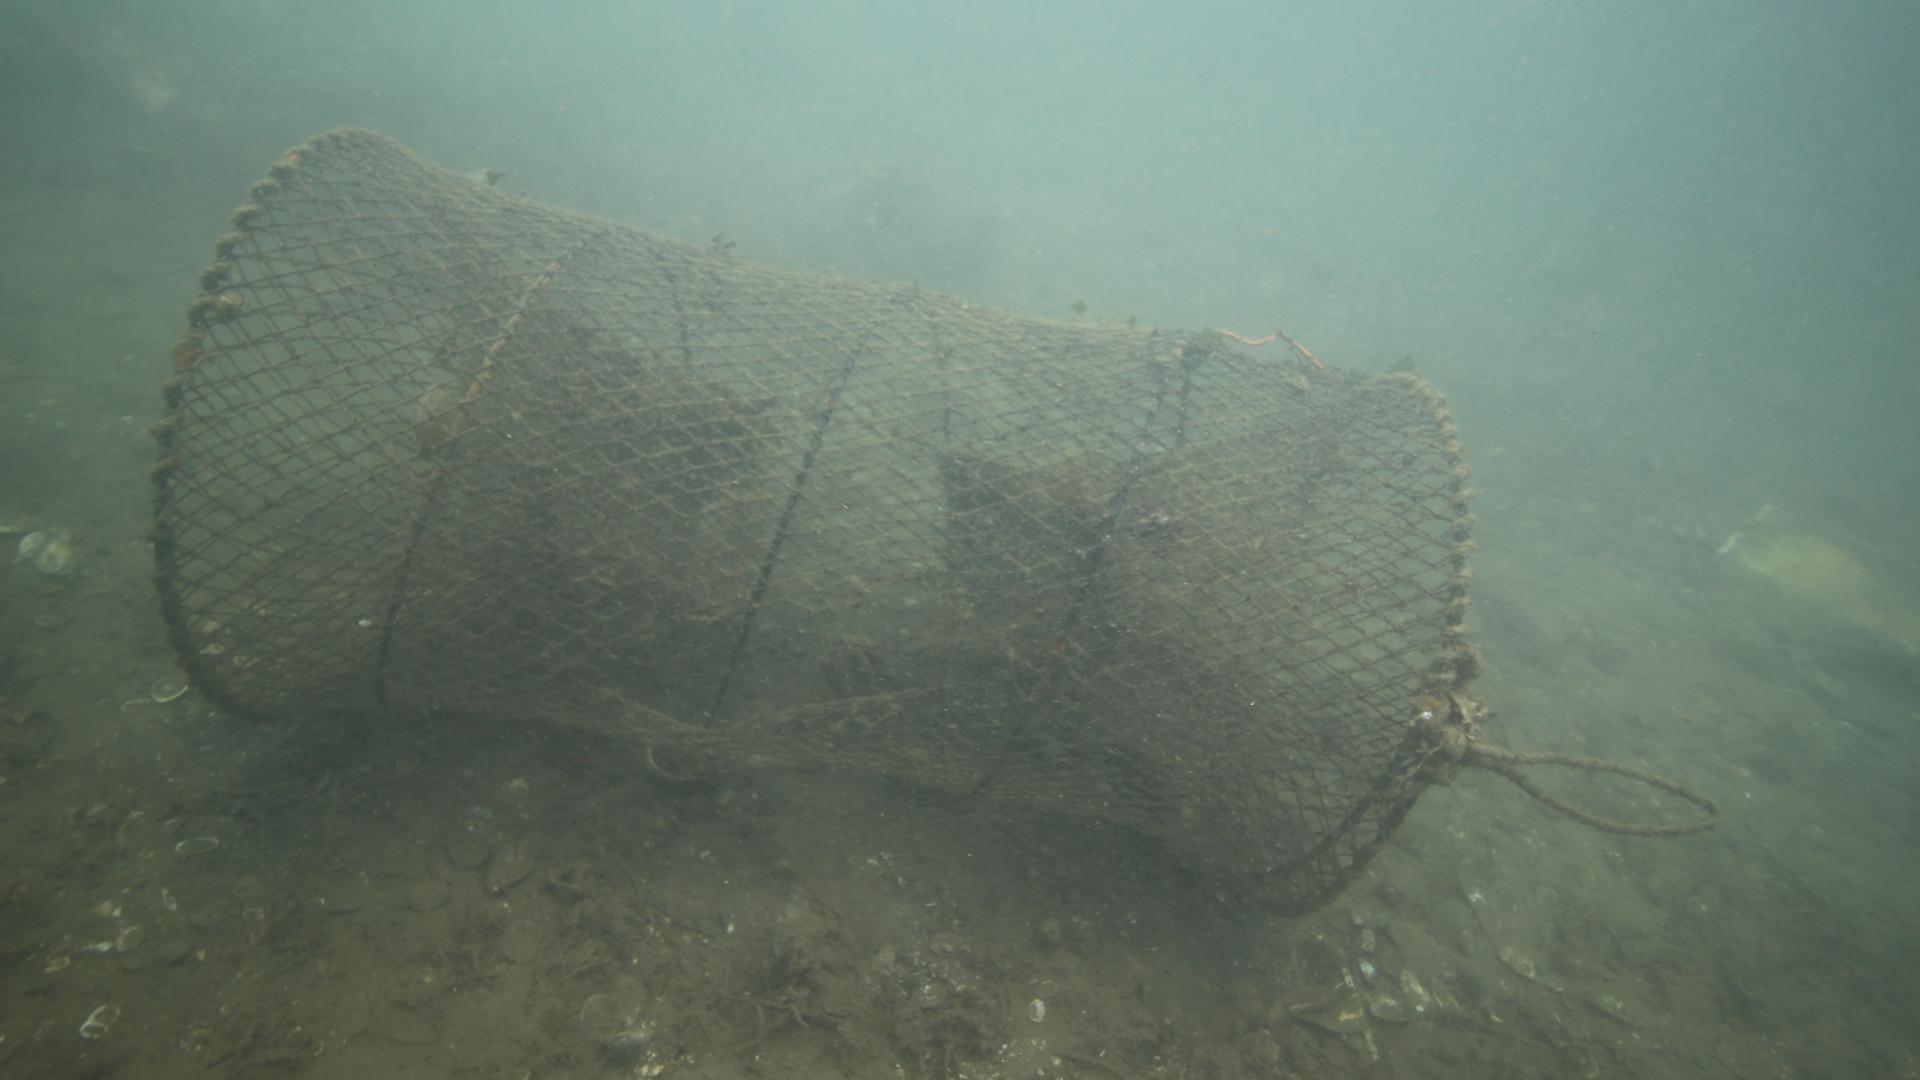bundle of ropes: (1451, 721, 1720, 841)
spring fish trap: (146, 123, 1478, 928)
